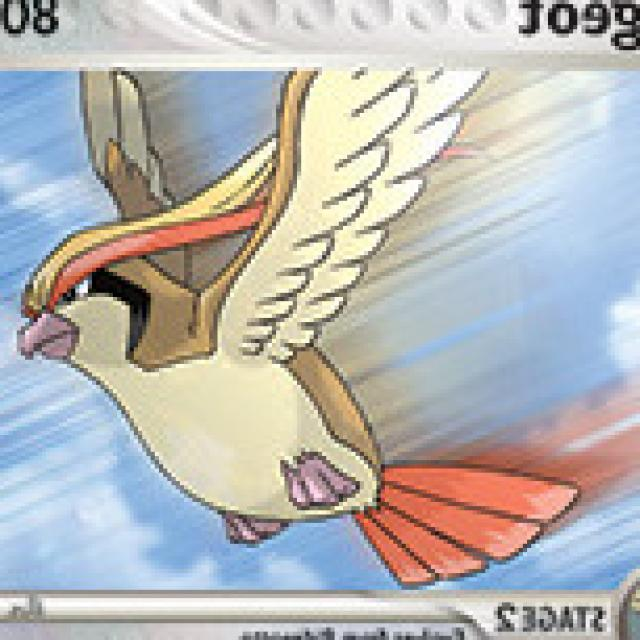Pidgeot: (15, 71, 450, 579)
